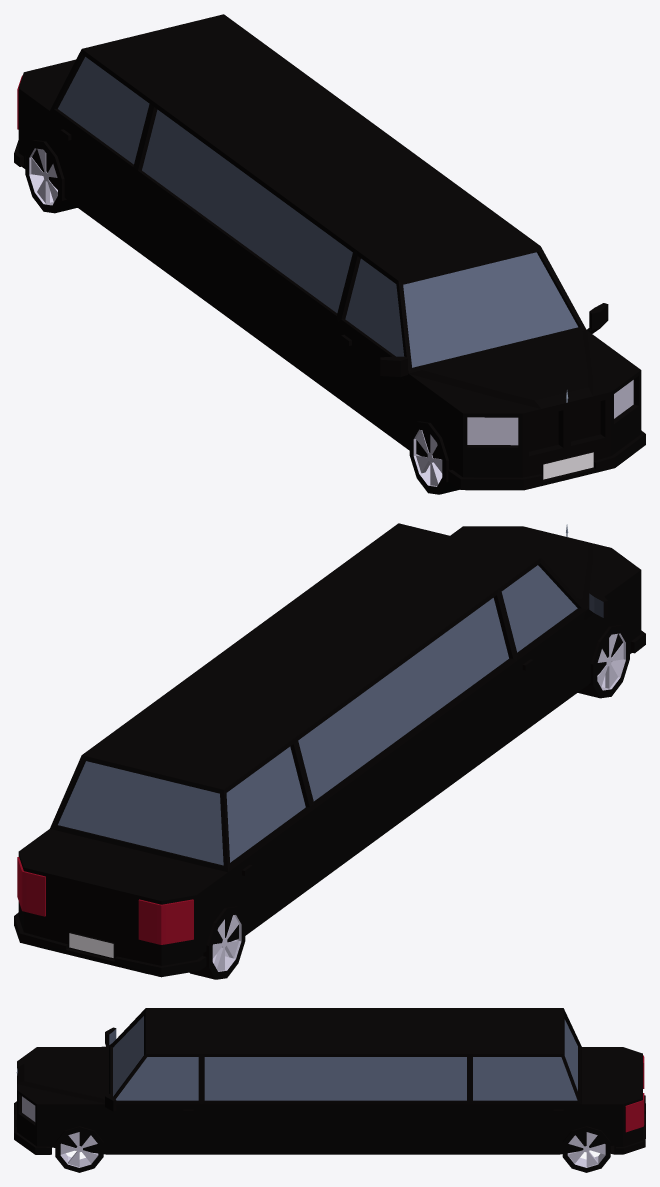
File: limousine.glb
3 views of the same model, one above another, from view 1: azimuth 30°, elevation 25°; view 2: azimuth 150°, elevation 25°; view 3: azimuth 270°, elevation 25° (orthographic). The views are drawn at different scales.
Parts seen in each view (by area): view 1: limousine; view 2: limousine; view 3: limousine.
Boxes of the visible parts, x1,y1,x2,y2 form: limousine: [14, 14, 645, 494]; limousine: [14, 523, 645, 979]; limousine: [14, 1008, 645, 1172].
Size of the model in its own units: 1.76 by 1.26 by 6.4.
